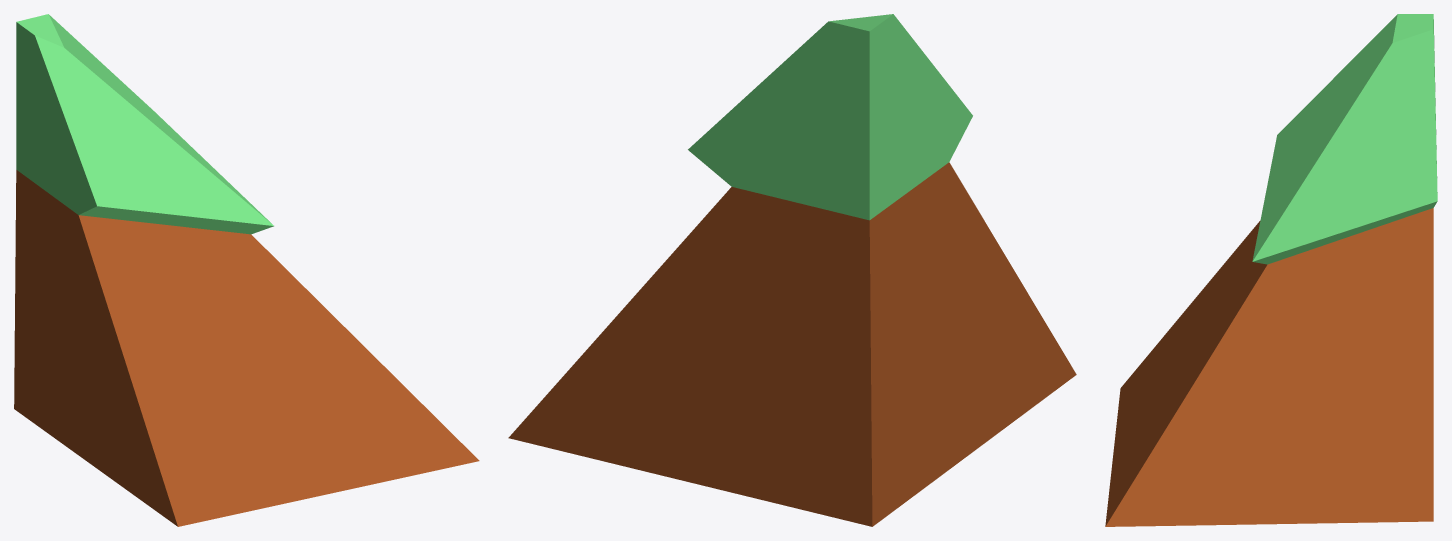
File: cornerExt_border.fbx
The picture shows the model from 3 angles, left to right: view 1: azimuth 30°, elevation 25°; view 2: azimuth 150°, elevation 25°; view 3: azimuth 270°, elevation 25°; orthographic projection. The views are drawn at different scales.
Parts seen in each view (by area): view 1: cornerExt_Border; view 2: cornerExt_Border; view 3: cornerExt_Border.
Part boxes in pixels (<box>): cornerExt_Border: <box>14,14,479,526</box>; cornerExt_Border: <box>508,14,1076,526</box>; cornerExt_Border: <box>1105,14,1437,526</box>.
Bounding box in the file's own units: 40.06 × 50 × 40.25.
